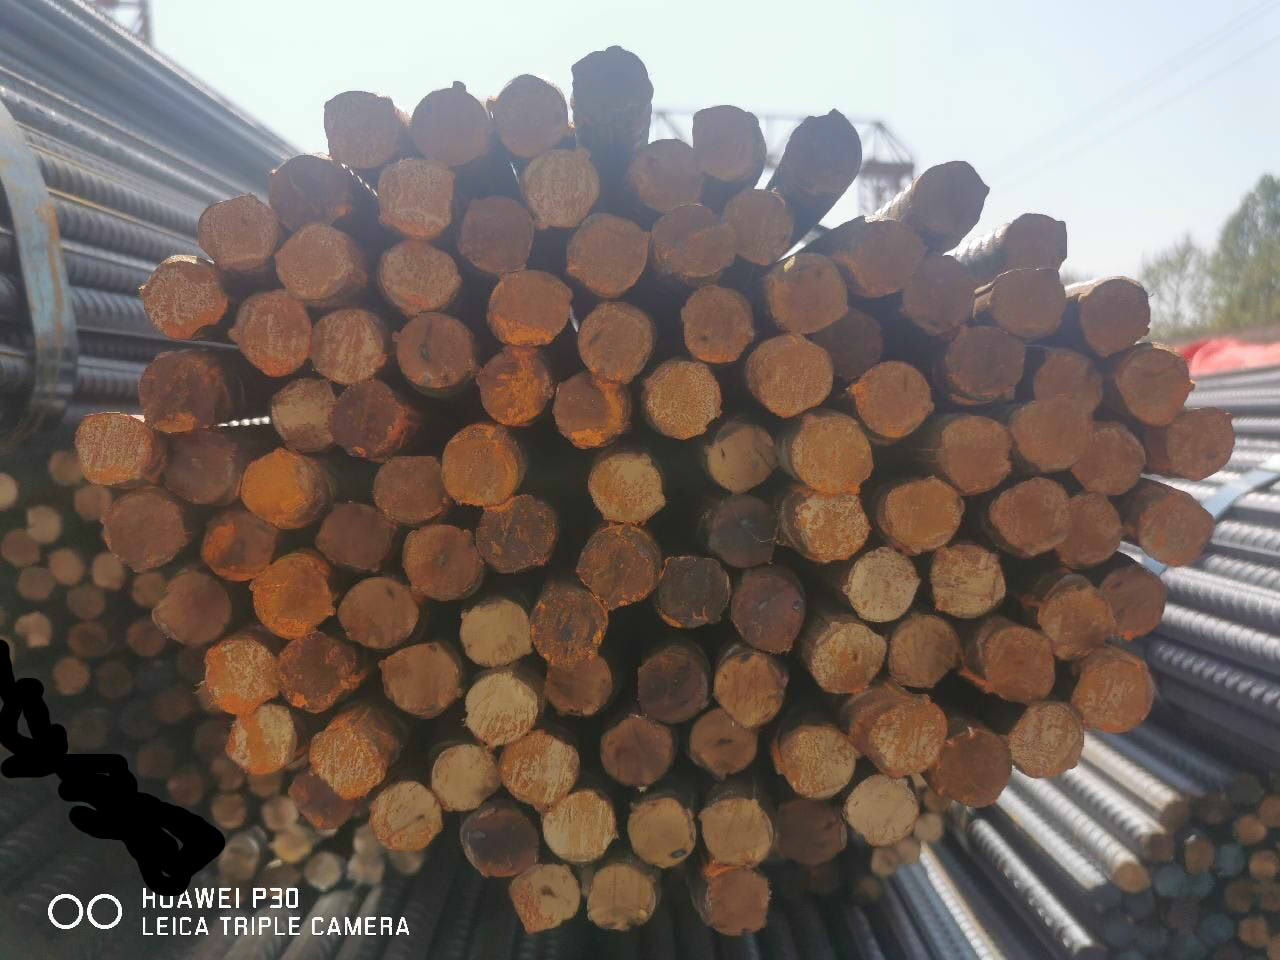rebar: (130, 345, 231, 435), (566, 41, 658, 132), (247, 549, 336, 641), (564, 212, 652, 302), (841, 209, 927, 297), (649, 200, 737, 286), (988, 474, 1073, 563), (135, 257, 229, 338), (276, 632, 364, 717), (101, 491, 190, 574), (673, 278, 756, 368), (230, 290, 313, 378), (441, 423, 524, 510), (845, 360, 938, 437), (749, 330, 832, 415), (472, 494, 558, 577), (526, 580, 609, 667), (1070, 653, 1157, 736), (767, 248, 849, 336), (269, 223, 362, 299), (319, 87, 404, 170), (407, 79, 491, 163), (305, 715, 389, 800), (1112, 343, 1197, 426), (783, 108, 864, 196), (487, 72, 570, 155), (470, 346, 554, 429), (400, 521, 486, 603), (390, 311, 477, 391), (941, 324, 1028, 404), (483, 272, 574, 348), (374, 157, 457, 241), (497, 725, 580, 809), (1037, 582, 1122, 664), (865, 694, 950, 774), (1133, 489, 1220, 569), (791, 415, 874, 498), (191, 191, 275, 271), (912, 158, 991, 244), (646, 357, 724, 444), (730, 569, 806, 656), (520, 147, 601, 230), (625, 134, 706, 217), (932, 413, 1015, 494), (153, 563, 233, 646), (574, 298, 653, 383), (574, 524, 659, 603), (71, 410, 156, 488), (840, 545, 923, 623), (236, 444, 312, 529), (457, 196, 538, 275), (158, 429, 242, 506), (774, 723, 858, 801), (335, 574, 419, 650), (974, 626, 1059, 702), (883, 476, 966, 554), (934, 726, 1012, 809), (691, 102, 768, 186), (722, 185, 798, 268), (377, 239, 462, 315), (1011, 393, 1091, 473), (695, 793, 776, 871), (1077, 276, 1156, 357), (899, 253, 977, 335), (379, 641, 462, 718), (791, 491, 874, 568), (583, 450, 667, 524), (1009, 701, 1087, 781), (200, 505, 280, 583), (271, 153, 352, 231), (927, 542, 1006, 620), (808, 620, 887, 699), (309, 306, 387, 385), (459, 805, 541, 879), (309, 500, 394, 573), (598, 712, 674, 792), (331, 380, 406, 461), (769, 796, 849, 871), (203, 639, 281, 715), (462, 670, 540, 745), (844, 774, 923, 849), (656, 553, 733, 629), (1072, 421, 1147, 499), (887, 613, 962, 692), (541, 789, 619, 863), (985, 267, 1067, 337), (704, 492, 778, 568), (712, 652, 787, 727), (457, 593, 533, 667), (223, 703, 299, 776), (368, 777, 441, 854), (507, 861, 584, 935), (684, 708, 763, 779), (1034, 343, 1107, 419), (551, 371, 622, 450), (373, 451, 448, 524), (703, 424, 777, 497), (634, 649, 708, 723), (583, 859, 657, 932), (1164, 406, 1237, 481), (626, 794, 697, 869), (269, 373, 338, 452), (1057, 488, 1123, 570), (427, 741, 501, 813), (699, 862, 773, 934), (823, 302, 887, 382), (1103, 566, 1169, 642), (993, 210, 1071, 274), (544, 651, 612, 717), (65, 708, 110, 750), (216, 835, 258, 880), (124, 614, 167, 657), (300, 850, 344, 892), (136, 738, 178, 779), (167, 767, 209, 810), (116, 701, 156, 743), (268, 826, 312, 864), (91, 658, 132, 699), (257, 792, 298, 832), (14, 564, 56, 603), (65, 620, 107, 659), (49, 653, 89, 696), (64, 585, 107, 623), (209, 790, 248, 830), (1, 528, 42, 567), (345, 851, 387, 888), (208, 753, 245, 795), (71, 485, 109, 524), (13, 611, 51, 650), (153, 687, 193, 725), (173, 646, 211, 687), (262, 865, 303, 902), (45, 448, 82, 488), (90, 550, 124, 592), (1193, 792, 1232, 829), (25, 505, 61, 545), (192, 720, 228, 759), (48, 548, 84, 587), (387, 841, 425, 875), (130, 572, 165, 608), (1112, 859, 1150, 892), (1197, 913, 1236, 946), (1232, 811, 1267, 846), (1173, 923, 1208, 958), (245, 767, 284, 799), (1144, 828, 1178, 863), (1183, 834, 1215, 871), (1238, 911, 1271, 946), (913, 810, 943, 848), (1221, 878, 1254, 913), (350, 823, 382, 858), (1091, 883, 1124, 917), (1155, 865, 1187, 899), (1231, 772, 1263, 807), (1247, 846, 1279, 880), (869, 843, 899, 879), (1103, 915, 1137, 946), (1167, 897, 1201, 929), (848, 877, 883, 908), (1161, 797, 1192, 830), (1215, 844, 1246, 878), (1137, 921, 1169, 952), (923, 781, 954, 813), (895, 834, 923, 867), (1129, 893, 1160, 922), (1254, 881, 1280, 914), (1260, 796, 1280, 830), (1190, 872, 1215, 898)
